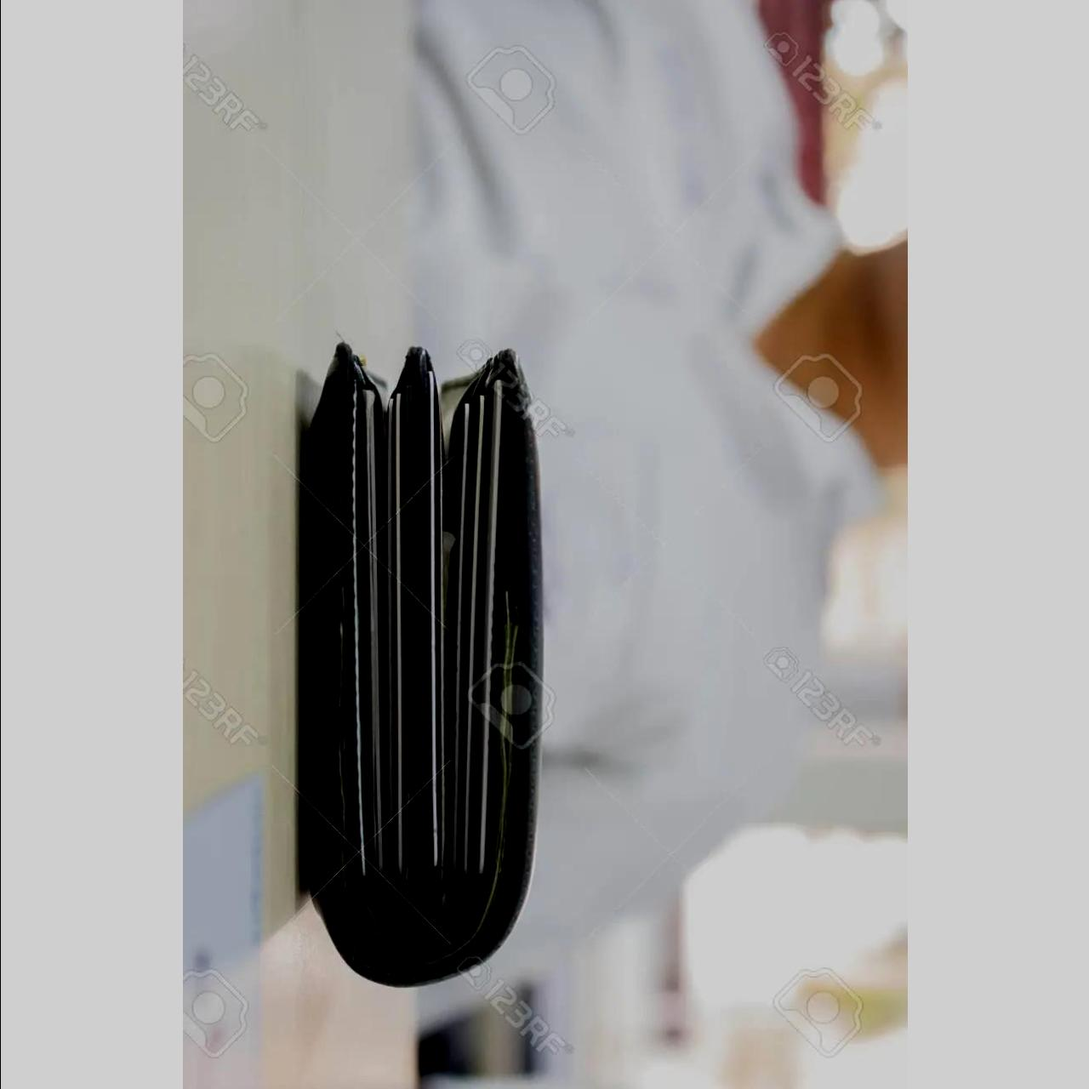wallet: (283, 347, 556, 1014)
